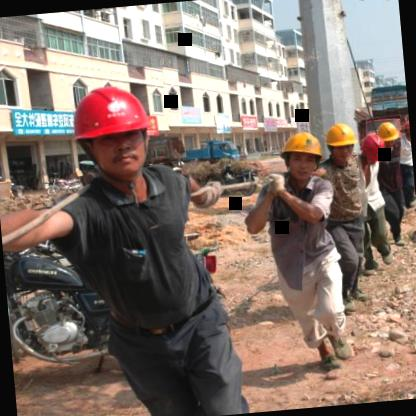helmet: (64, 77, 165, 192), (277, 126, 328, 184), (322, 118, 358, 171), (361, 133, 387, 169), (374, 121, 404, 151), (399, 118, 411, 143)
